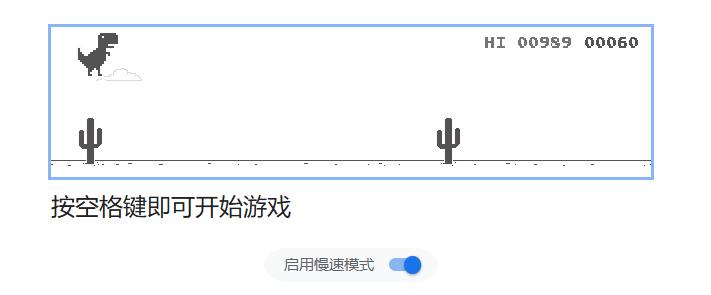cactus: (435, 117, 462, 166), (78, 116, 103, 166)
dino: (75, 31, 119, 77)
